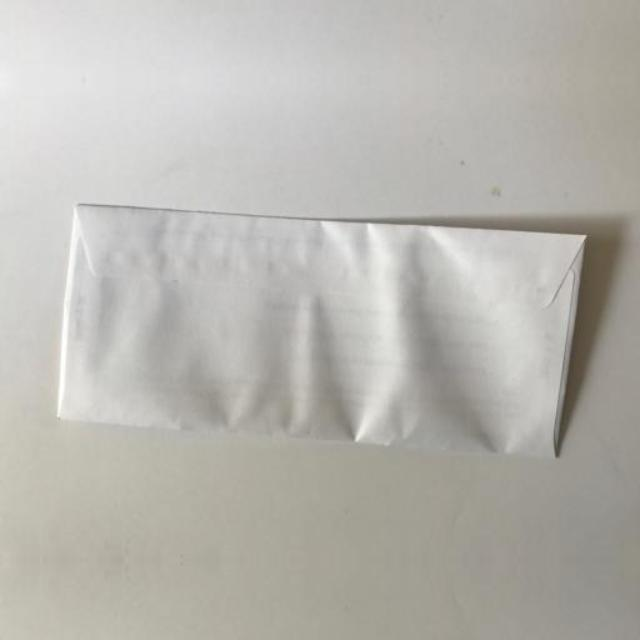paper: (54, 202, 584, 458)
